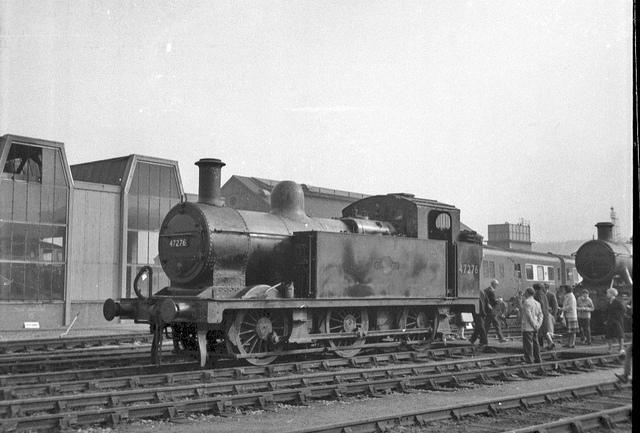Train: (103, 161, 583, 370)
